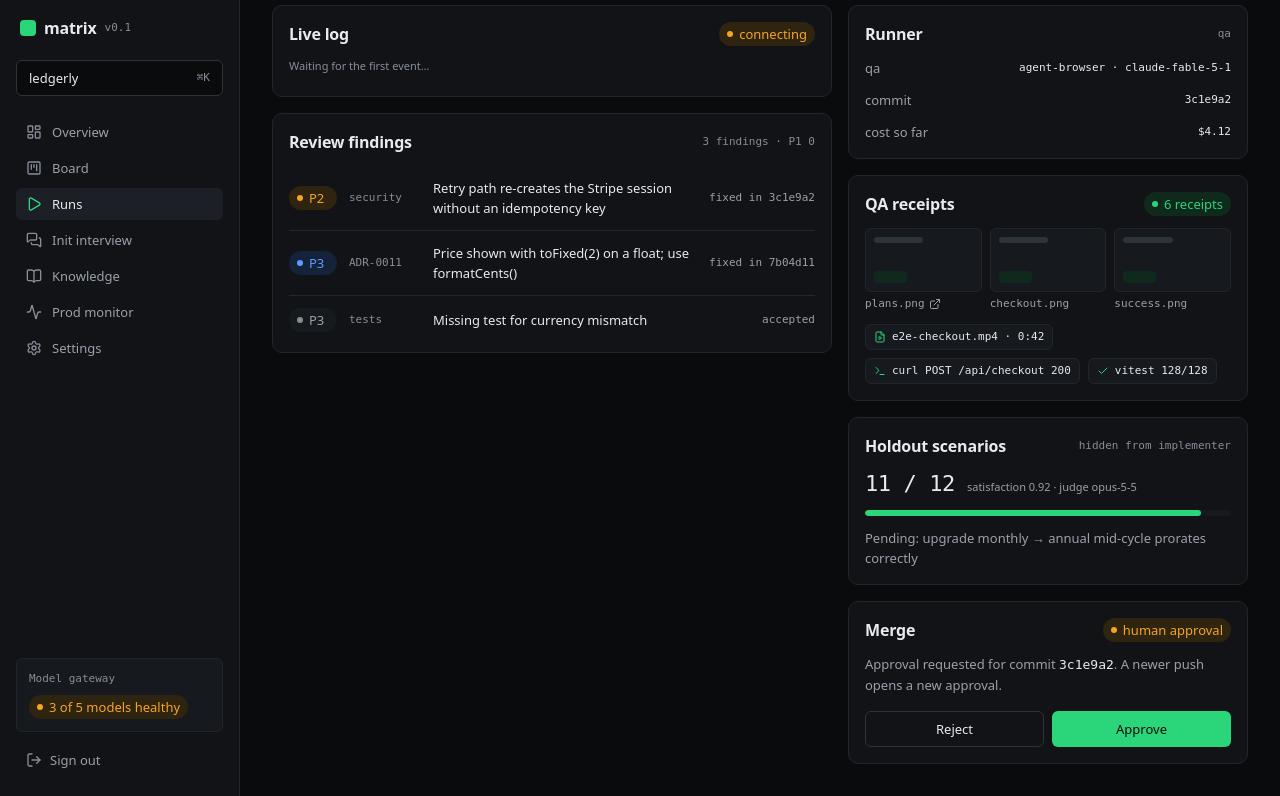
Scenario: screens › run detail only renders safe links and approves the exact commit with CSRF
The width and height of the screenshot is (1280, 796).
(page scrolled)
Click the button "Approve" at [1142, 729], box 1052,711 -> 1231,747
(page scrolled)
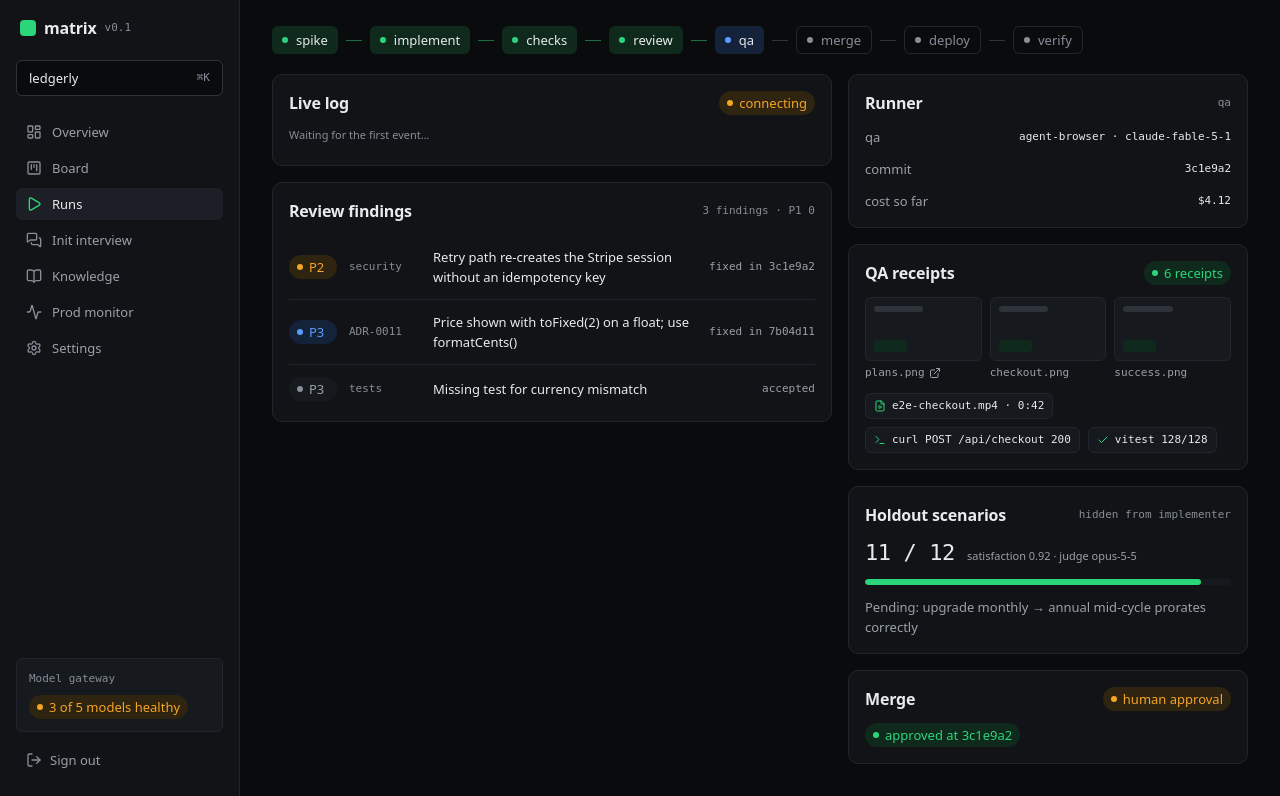
Expected: the text "approved at 3c1e9a2" is shown, 865,723 -> 1020,747
